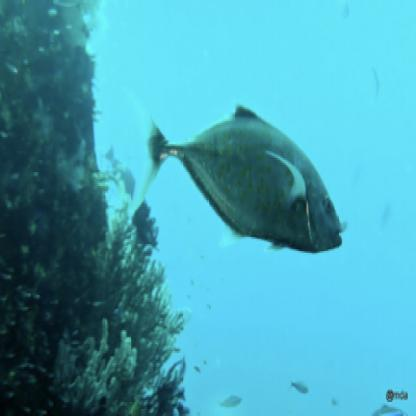Bio: (115, 86, 348, 264)
